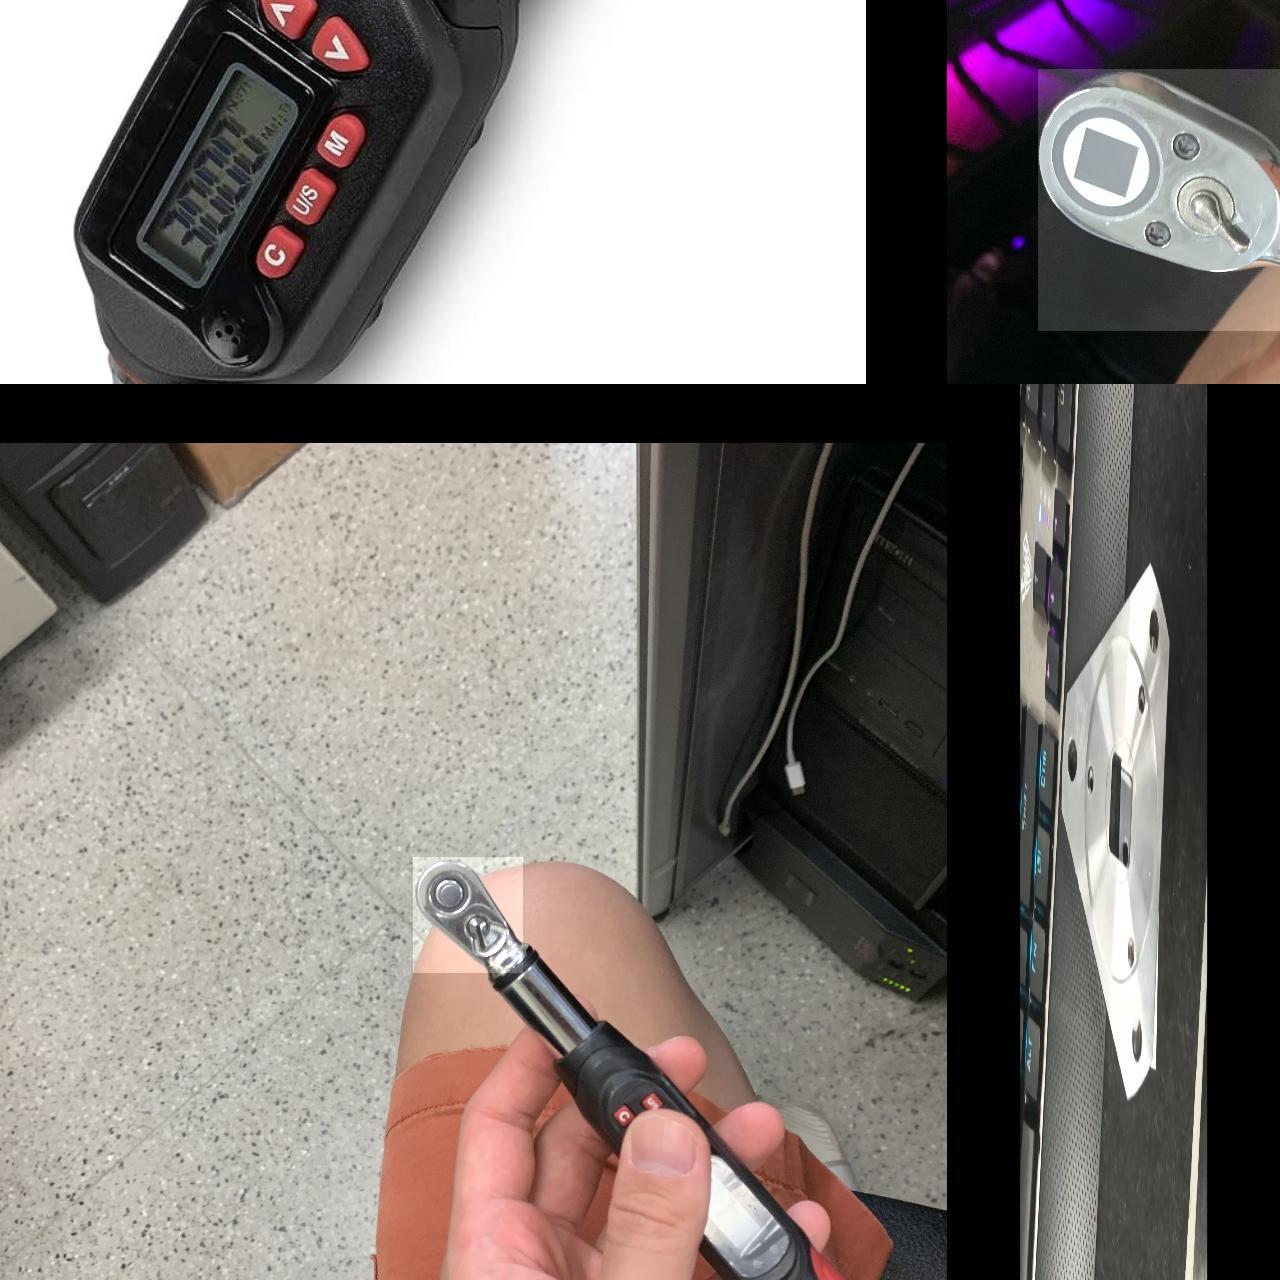Tool: (1037, 69, 1280, 331), (411, 857, 522, 973)
